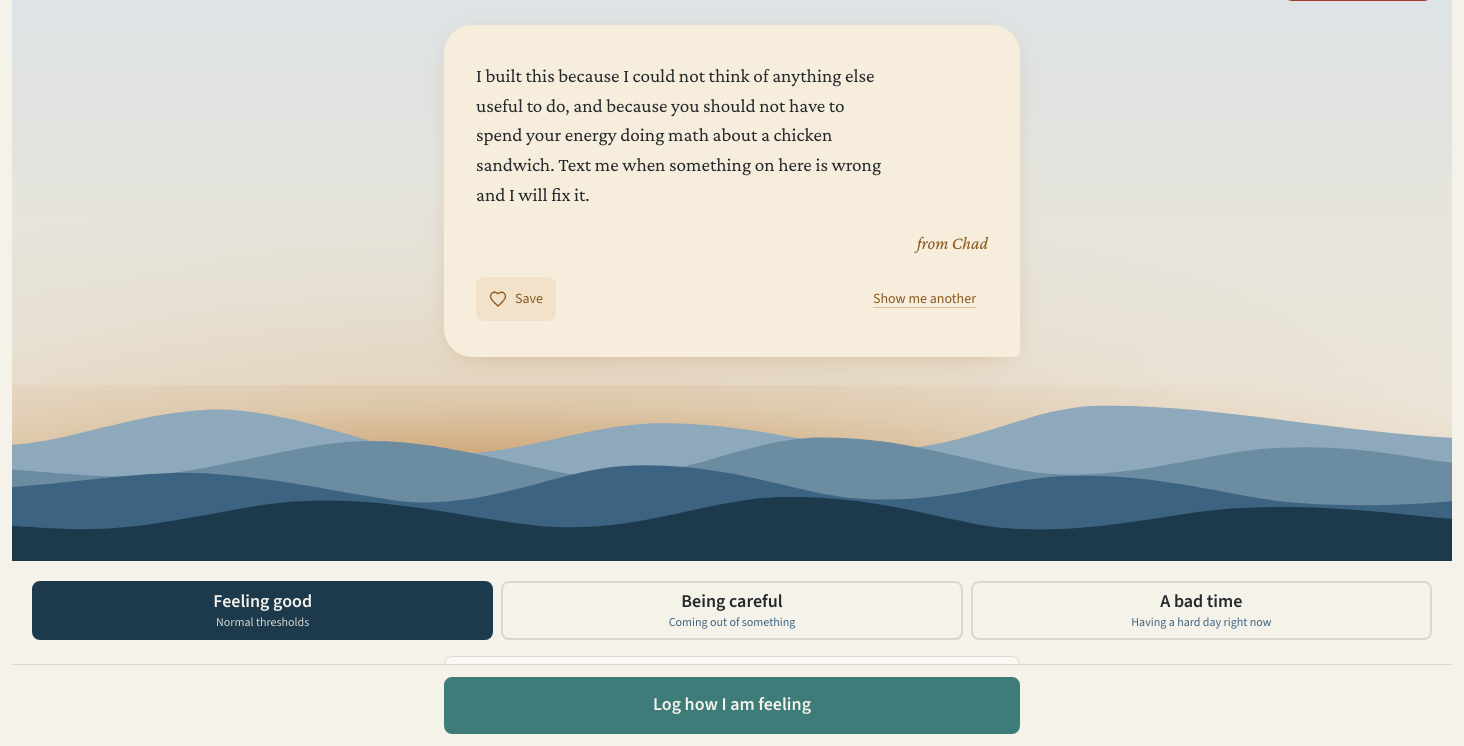
it: FlareGate, invariant 1 › offers a way to add a number when she has none saved
Click the radio button labelled "A bad time Having a hard day right now" at (1201, 610), box [971,580,1432,640]
(page scrolled)
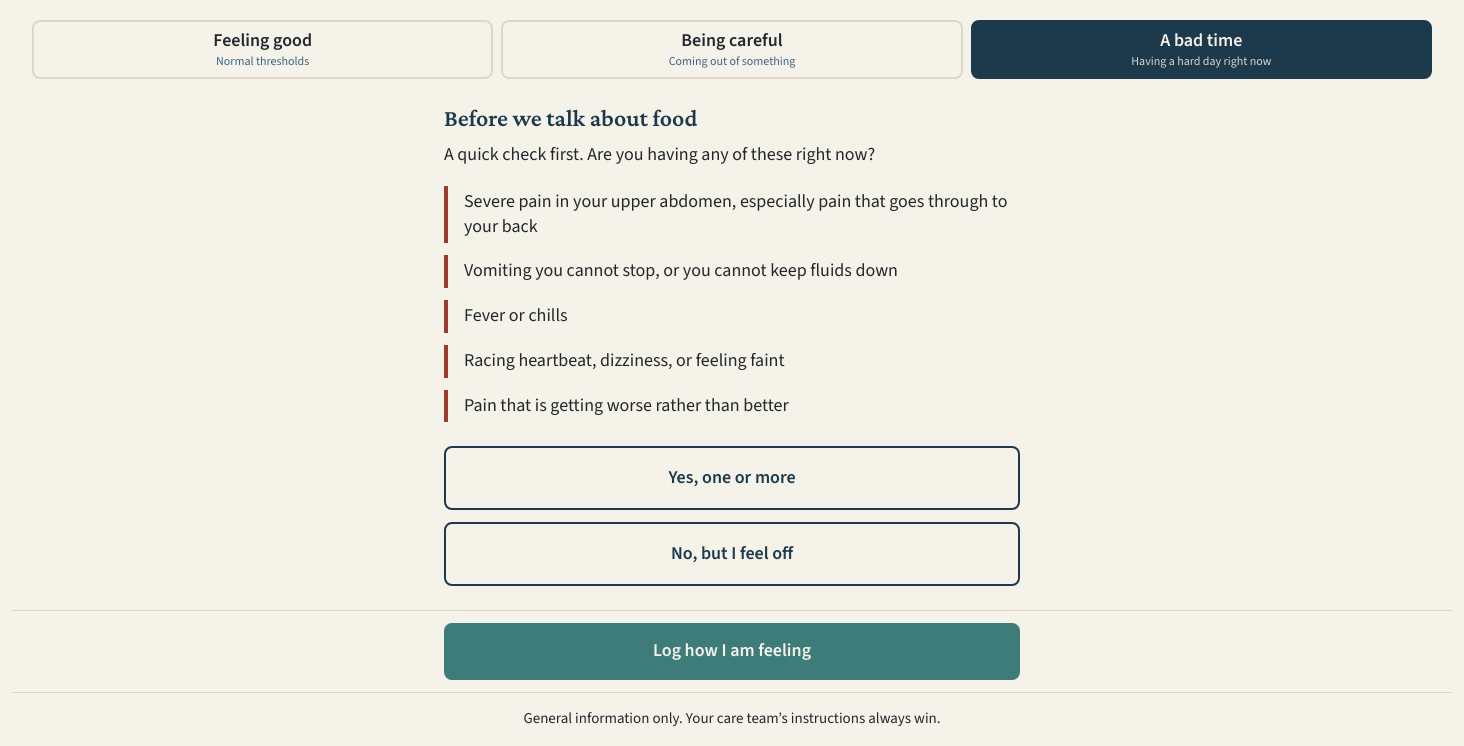
Click the button "Yes, one or more" at (732, 478), box [444,446,1020,510]
(page scrolled)
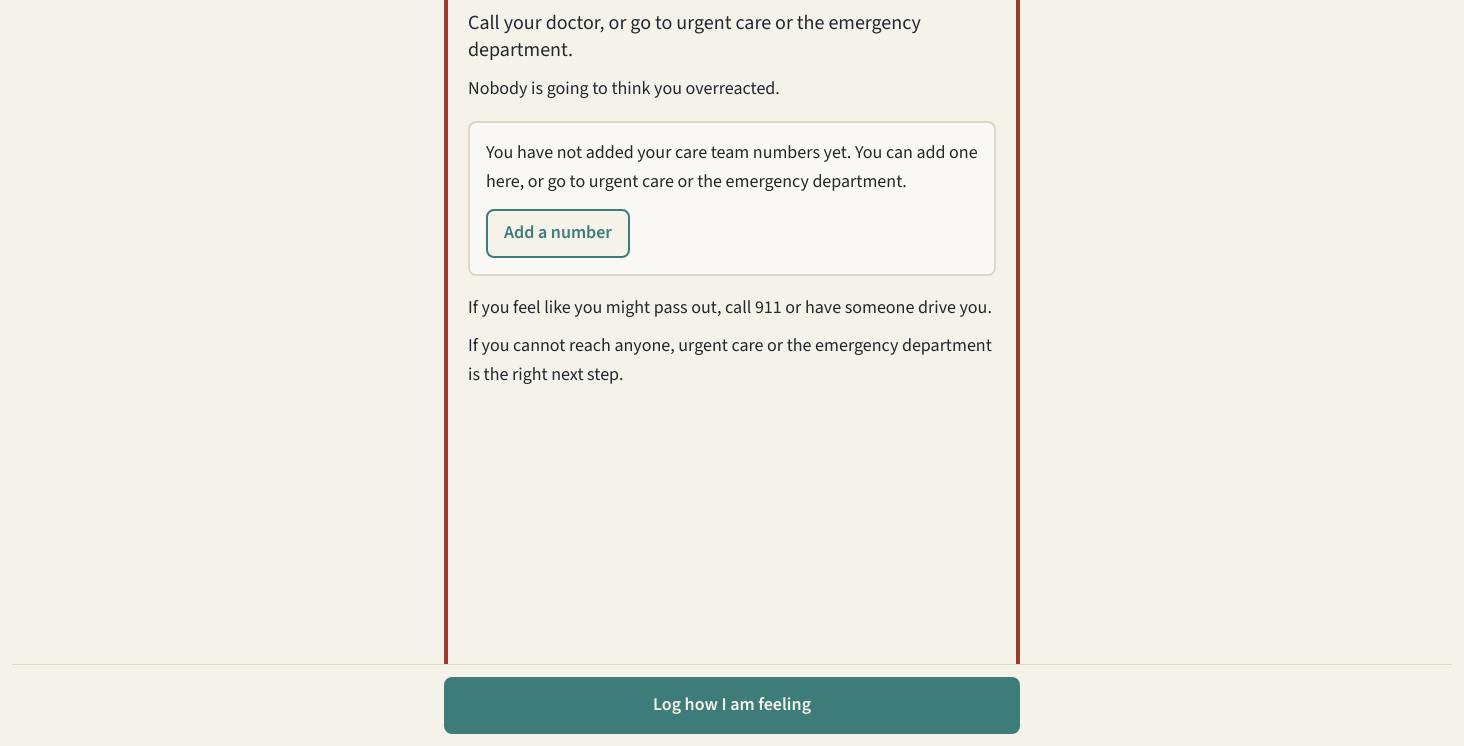
Now the text "have not added your care team numbers" is shown, box [486,140,978,194]
Now the button "Add a number" is shown, box [486,209,630,258]
